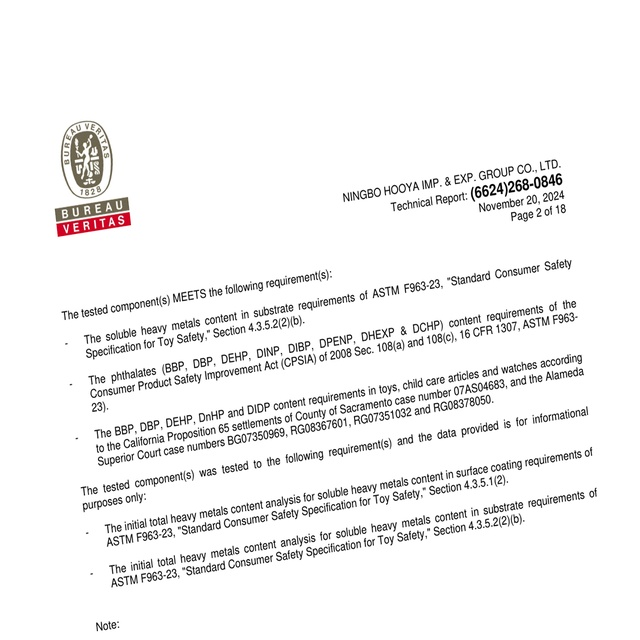bureau_veritas: (48, 112, 133, 242)
